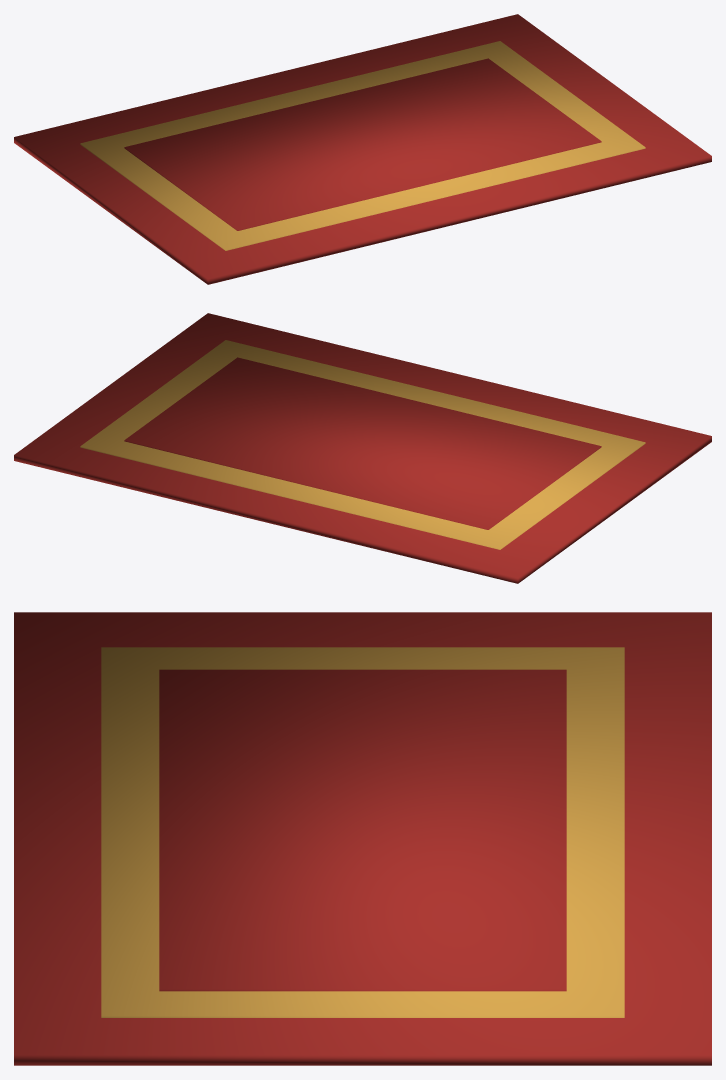
File: rug.glb
The picture shows the model from 3 angles, top to bottom: view 1: azimuth 30°, elevation 25°; view 2: azimuth 150°, elevation 25°; view 3: azimuth 270°, elevation 25°; orthographic projection. The views are drawn at different scales.
Parts seen in each view (by area): view 1: Rug; view 2: Rug; view 3: Rug.
Part boxes in pixels (bbox=[...]): Rug: bbox=[14, 14, 711, 284]; Rug: bbox=[14, 313, 711, 583]; Rug: bbox=[14, 612, 711, 1065].
Bounding box in the file's own units: 1.8 × 0.028 × 1.2.
